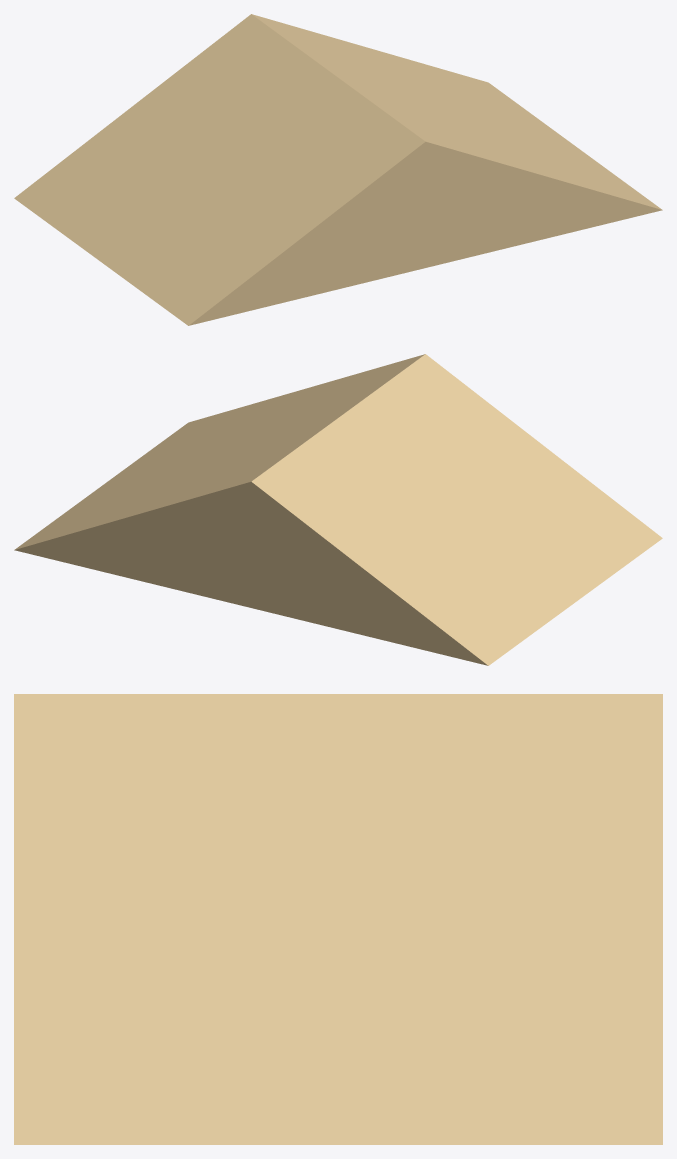
The model's file is sand-dune.glb.
The picture shows the model from 3 angles, top to bottom: view 1: azimuth 30°, elevation 25°; view 2: azimuth 150°, elevation 25°; view 3: azimuth 270°, elevation 25°; orthographic projection. The views are drawn at different scales.
Size of the model in its own units: 11 by 2.8 by 7.
